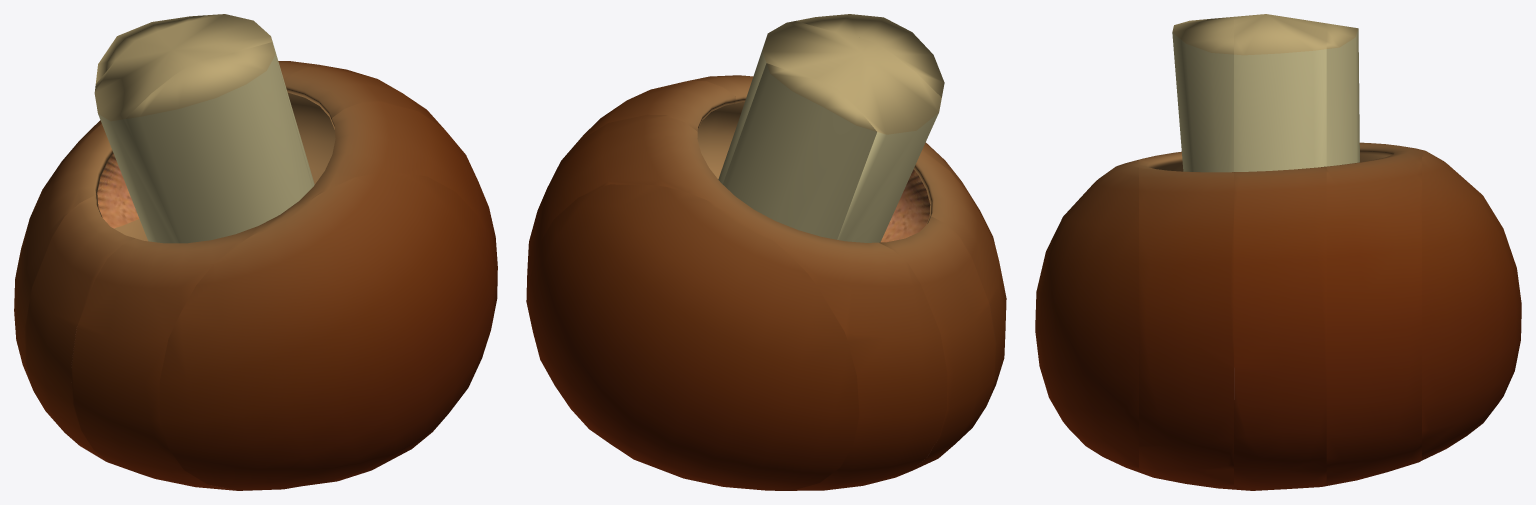
File: mushroom.fbx
3 views of the same model, side by side, from view 1: azimuth 30°, elevation 25°; view 2: azimuth 150°, elevation 25°; view 3: azimuth 270°, elevation 25° (orthographic).
Parts seen in each view (by area): view 1: polySurface5, polySurface4, polySurface3, polySurface2, polySurface1; view 2: polySurface1, polySurface2, polySurface3, polySurface4, polySurface5; view 3: polySurface3, polySurface4, polySurface2, polySurface5, polySurface1.
Boxes of the visible parts, x1,y1,x2,y2 form: polySurface5: [159, 173, 495, 490]; polySurface4: [71, 42, 497, 490]; polySurface3: [25, 14, 443, 463]; polySurface2: [14, 15, 363, 388]; polySurface1: [19, 120, 139, 255]; polySurface1: [530, 184, 859, 490]; polySurface2: [526, 63, 947, 490]; polySurface3: [550, 21, 995, 478]; polySurface4: [651, 14, 1006, 407]; polySurface5: [881, 142, 994, 244]; polySurface3: [1234, 14, 1326, 490]; polySurface4: [1139, 17, 1233, 489]; polySurface2: [1326, 23, 1421, 485]; polySurface5: [1035, 159, 1138, 472]; polySurface1: [1422, 150, 1521, 460].
Size of the model in its own units: 375 by 347 by 378.
Materials: 3 (1 with a texture image).
